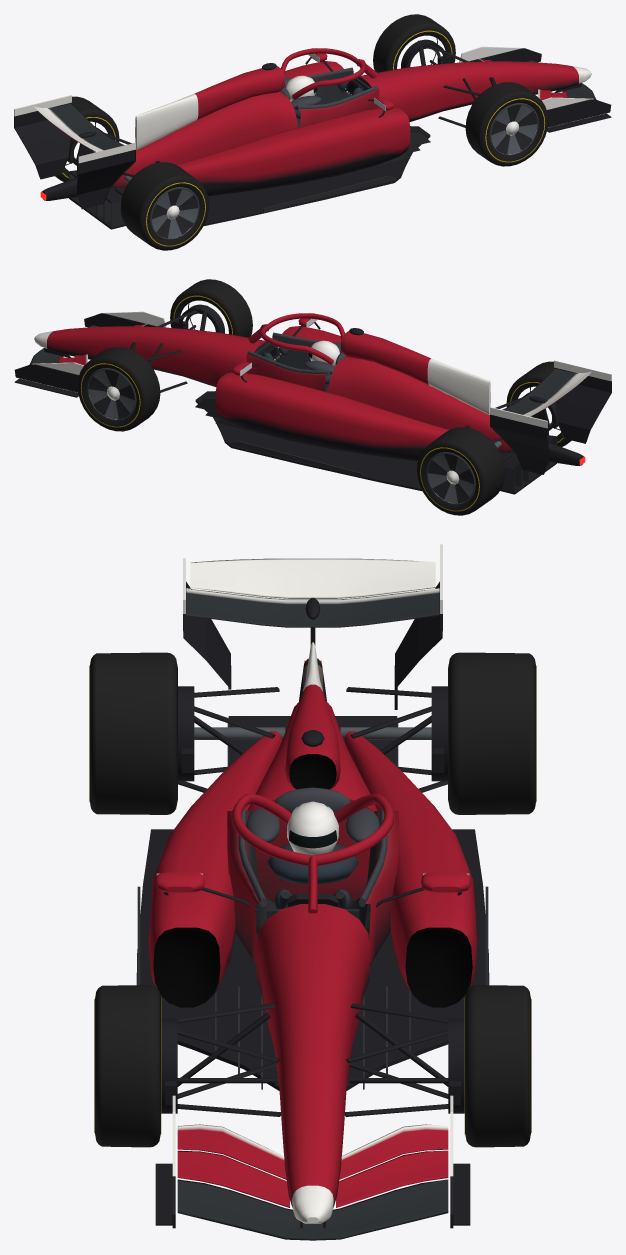
File: car_lod1.glb
3 views of the same model, one above another, from view 1: azimuth 30°, elevation 25°; view 2: azimuth 150°, elevation 25°; view 3: azimuth 270°, elevation 25° (orthographic). The views are drawn at different scales.
Parts seen in each view (by area): view 1: car, wheel_RR, wheel_FR, wheel_FL, wheel_RL, steer_FL, rw_flap, driver_helmet; view 2: car, wheel_RL, wheel_FL, wheel_FR, wheel_RR, steer_FR, rw_flap, driver_helmet; view 3: car, wheel_RL, wheel_RR, wheel_FL, wheel_FR, rw_flap, fw_flap_R, fw_flap_L, driver_helmet, corner_RL, corner_RR, steer_FL (+2 smaller).
Boxes of the visible parts, x1,y1,x2,y2 form: car: [14, 40, 611, 229]; wheel_RR: [120, 162, 208, 250]; wheel_FR: [465, 82, 548, 166]; wheel_FL: [373, 14, 455, 72]; wheel_RL: [55, 96, 119, 181]; steer_FL: [401, 39, 452, 68]; rw_flap: [34, 106, 103, 151]; driver_helmet: [286, 75, 317, 118]; car: [14, 305, 611, 494]; wheel_RL: [417, 427, 505, 515]; wheel_FL: [77, 347, 160, 431]; wheel_FR: [170, 279, 252, 337]; wheel_RR: [506, 361, 571, 446]; steer_FR: [173, 304, 224, 333]; rw_flap: [524, 371, 591, 416]; driver_helmet: [308, 340, 339, 383]; car: [136, 544, 489, 1240]; wheel_RL: [448, 652, 536, 814]; wheel_RR: [89, 652, 177, 814]; wheel_FL: [464, 985, 531, 1147]; wheel_FR: [94, 985, 161, 1147]; rw_flap: [190, 558, 435, 598]; fw_flap_R: [177, 1124, 289, 1207]; fw_flap_L: [336, 1124, 448, 1207]; driver_helmet: [267, 801, 358, 884]; corner_RL: [431, 686, 447, 781]; corner_RR: [178, 686, 194, 781]; steer_FL: [448, 1018, 464, 1113].
Size of the model in its own units: 5.46 by 1.05 by 1.93.
